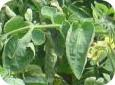Tomato mold leaf: (4, 22, 39, 75), (65, 20, 93, 80)
